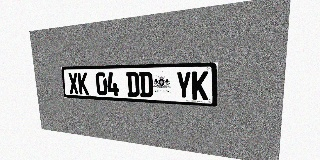0: (95, 72, 107, 95)
4: (106, 72, 119, 96)
D: (139, 72, 153, 98), (126, 72, 140, 97)
K: (192, 71, 208, 100), (77, 72, 89, 95)
X: (68, 72, 79, 94)
Y: (176, 71, 191, 99)
